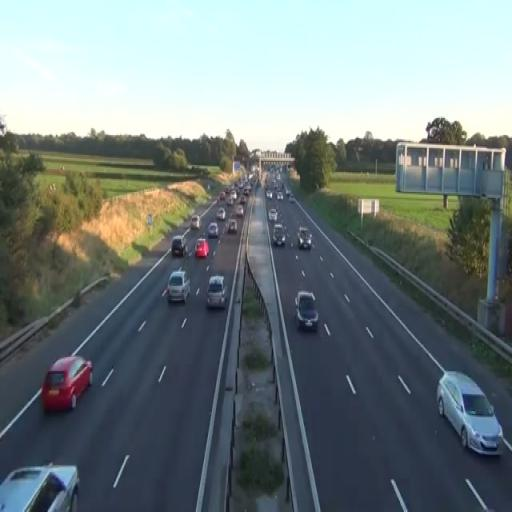Car: (436, 371, 502, 457), (0, 463, 79, 512), (41, 353, 94, 412), (294, 290, 319, 332), (206, 276, 228, 310), (168, 270, 190, 304), (297, 226, 312, 250), (172, 234, 186, 258), (272, 222, 286, 246), (195, 237, 209, 259), (207, 222, 218, 239), (268, 208, 278, 222), (228, 219, 237, 233)
